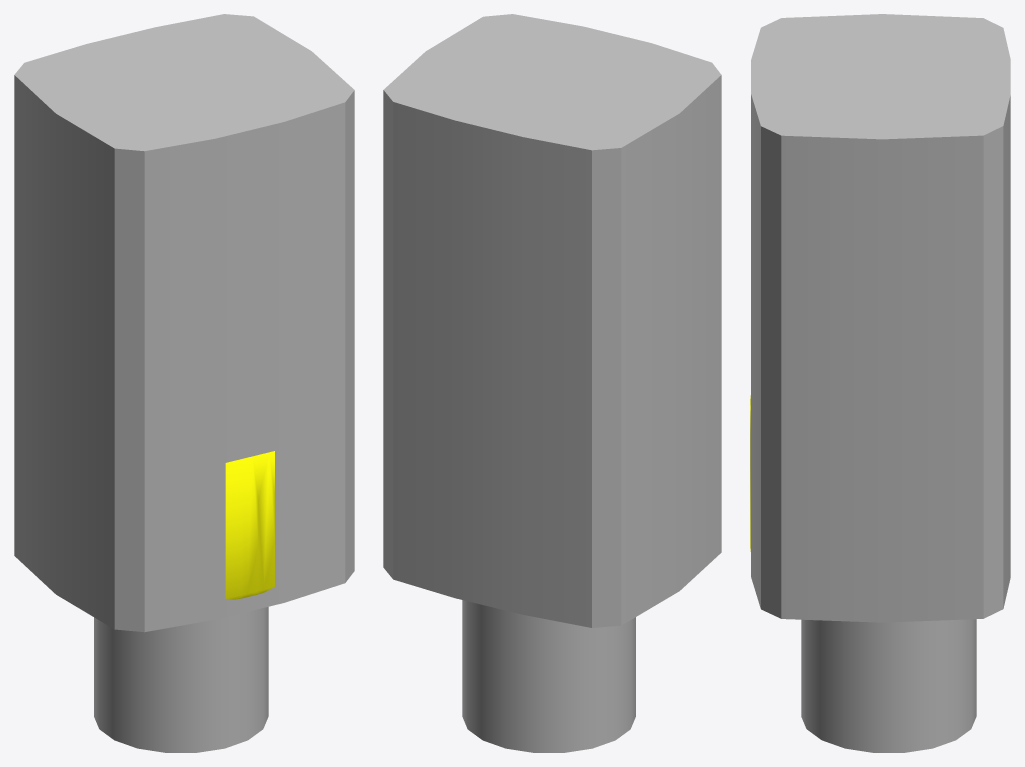
Rendered from sm_hana_cctv_bullet_camera.glb.
3 renders of one model, left to right at view 1: azimuth 30°, elevation 25°; view 2: azimuth 150°, elevation 25°; view 3: azimuth 270°, elevation 25°, orthographic.
Parts seen in each view (by area): view 1: sm_color_common, sm_hana_cctv_bullet_camera; view 2: sm_color_common; view 3: sm_color_common.
Part boxes in pixels (<box>): sm_color_common: <box>14,14,354,752</box>; sm_hana_cctv_bullet_camera: <box>225,451,274,599</box>; sm_color_common: <box>383,14,721,752</box>; sm_color_common: <box>751,14,1010,752</box>.
Bounding box in the file's own units: 0.4976 × 1.2 × 0.4371.
Materials: 3 (1 with a texture image).
